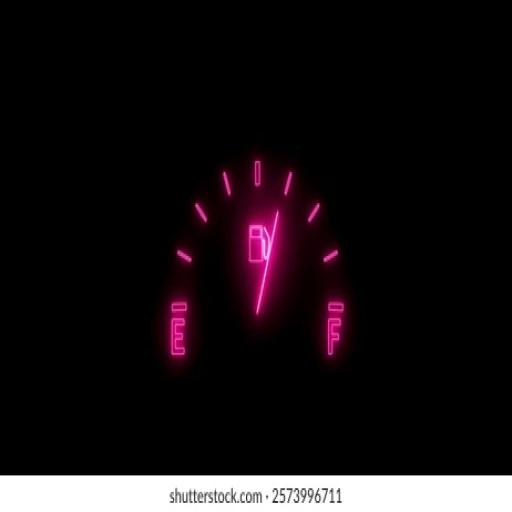empty: (169, 314, 188, 366)
fuel_icon: (244, 218, 270, 263)
full: (324, 318, 344, 357)
guage_area: (157, 153, 351, 392)
needle_center: (250, 280, 271, 318)
needle_tip: (271, 200, 282, 232)
